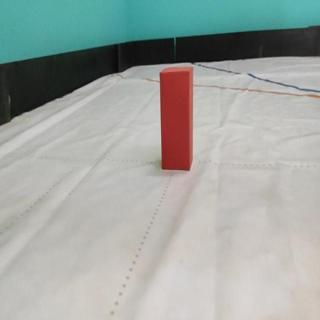redbox: (159, 64, 194, 171)
